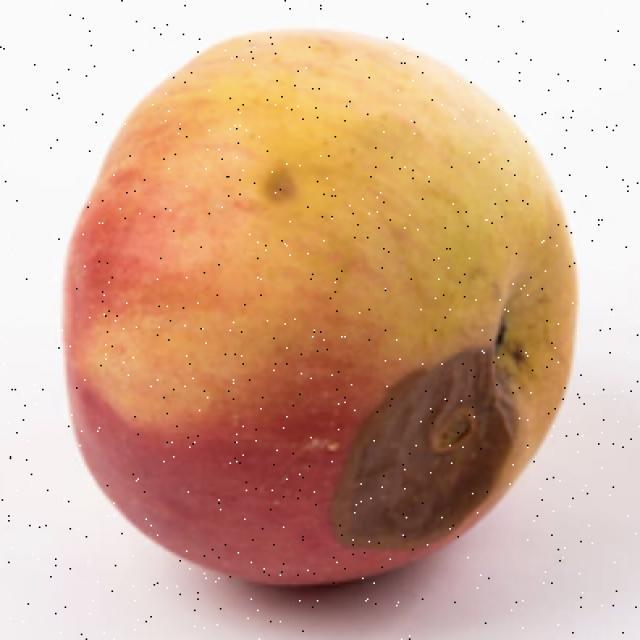Rotten: (77, 35, 573, 575)
